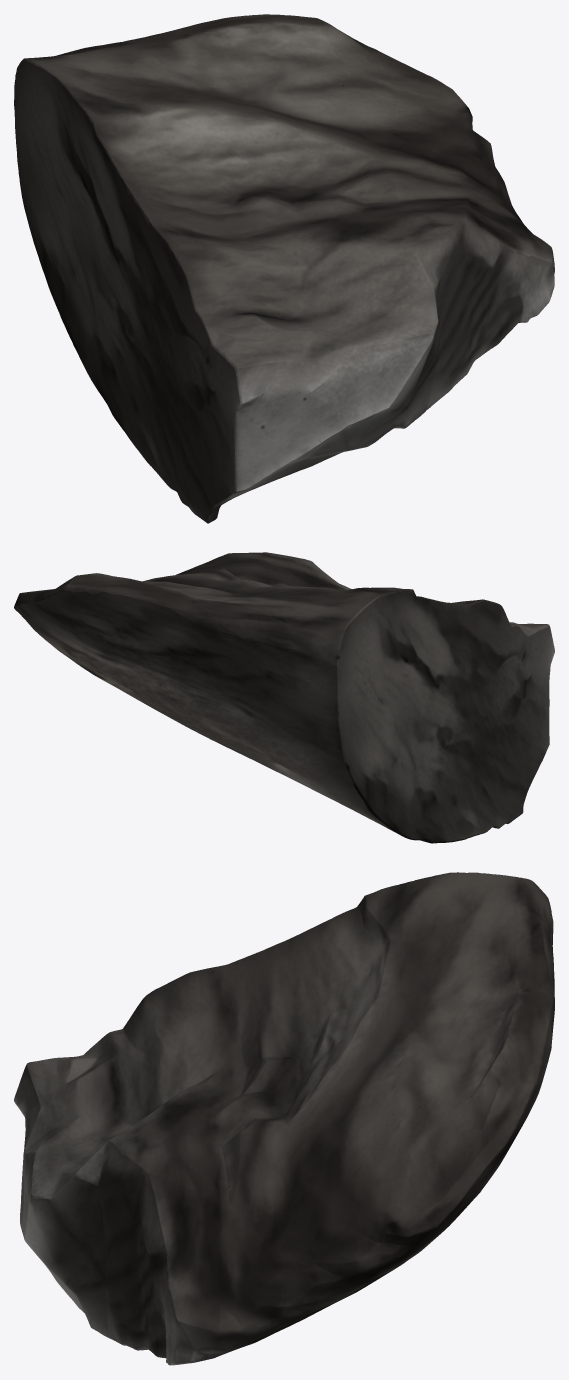
The picture shows the model from 3 angles, top to bottom: view 1: azimuth 30°, elevation 25°; view 2: azimuth 150°, elevation 25°; view 3: azimuth 270°, elevation 25°; orthographic projection. The views are drawn at different scales.
Parts seen in each view (by area): view 1: world; view 2: world; view 3: world.
Part boxes in pixels (x1,y1,x2,y2): world: (14, 14, 554, 523); world: (14, 552, 554, 843); world: (14, 872, 554, 1365).
Size of the model in its own units: 1.2 by 0.9735 by 1.19.
1 material, 1 textured.
